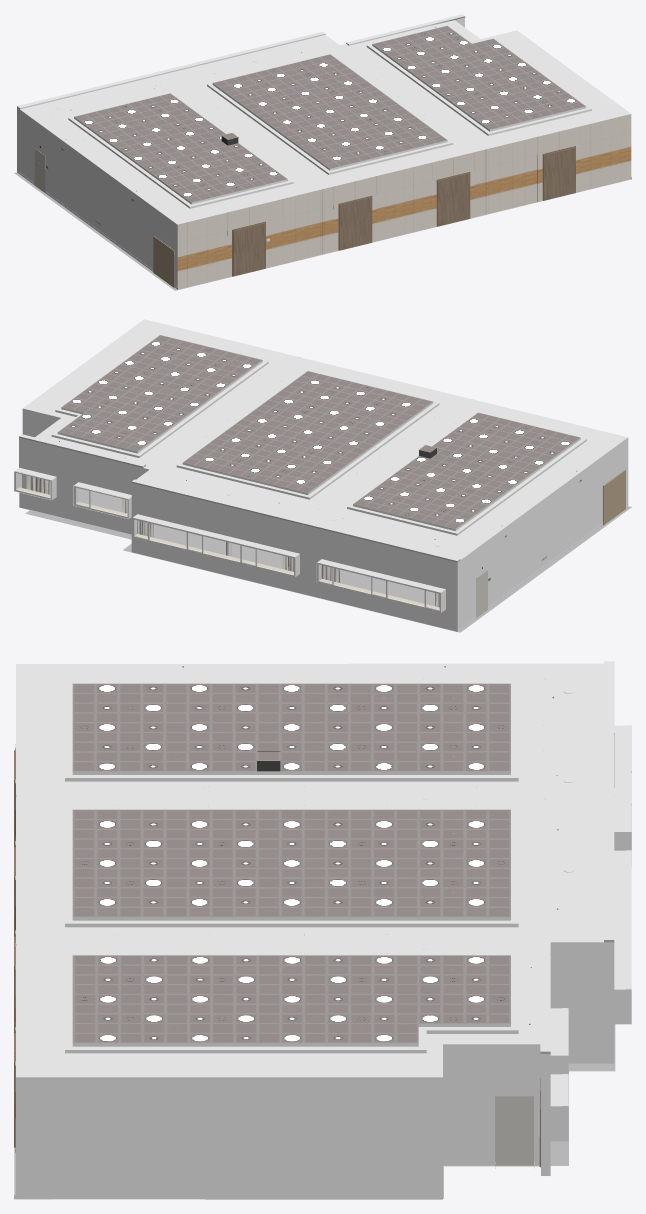
Rendered from Room.fbx.
3 views of the same model, one above another, from view 1: azimuth 30°, elevation 25°; view 2: azimuth 150°, elevation 25°; view 3: azimuth 270°, elevation 25° (orthographic). The views are drawn at different scales.
Parts seen in each view (by area): view 1: Ceiling, Wall, Floor; view 2: Ceiling, Wall, Floor, Curtain; view 3: Ceiling, Wall, Floor.
Part boxes in pixels (x1,y1,x2,y2): Ceiling: (17, 14, 630, 224); Wall: (17, 17, 631, 289); Floor: (14, 172, 631, 290); Ceiling: (19, 319, 627, 562); Wall: (14, 356, 628, 632); Floor: (25, 488, 631, 632); Curtain: (26, 475, 439, 607); Ceiling: (16, 661, 614, 1077); Wall: (14, 725, 631, 1199); Floor: (14, 1024, 615, 1198).
Bounding box in the file's own units: 25.62 × 4.01 × 16.07.
